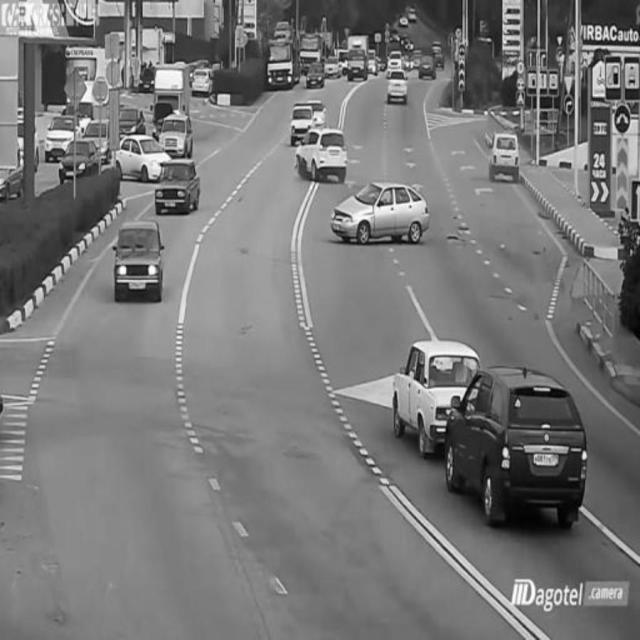vehicle: (445, 361, 591, 517), (393, 341, 479, 443), (328, 186, 431, 242), (111, 220, 166, 306), (153, 152, 204, 216), (294, 128, 352, 182), (113, 130, 169, 181), (58, 135, 99, 190), (160, 109, 197, 163), (41, 109, 77, 163), (265, 36, 299, 92), (484, 132, 522, 179), (343, 34, 371, 84), (288, 106, 316, 152), (190, 66, 218, 103), (385, 69, 410, 105), (417, 48, 442, 84), (304, 59, 330, 89)
